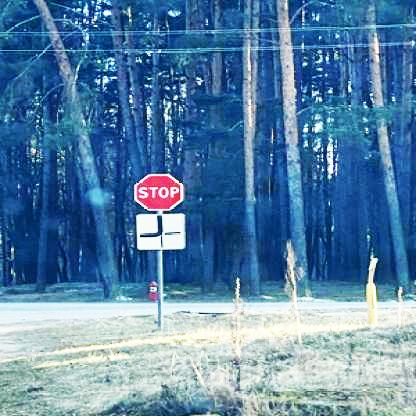Stop Sign: (131, 171, 187, 216)
